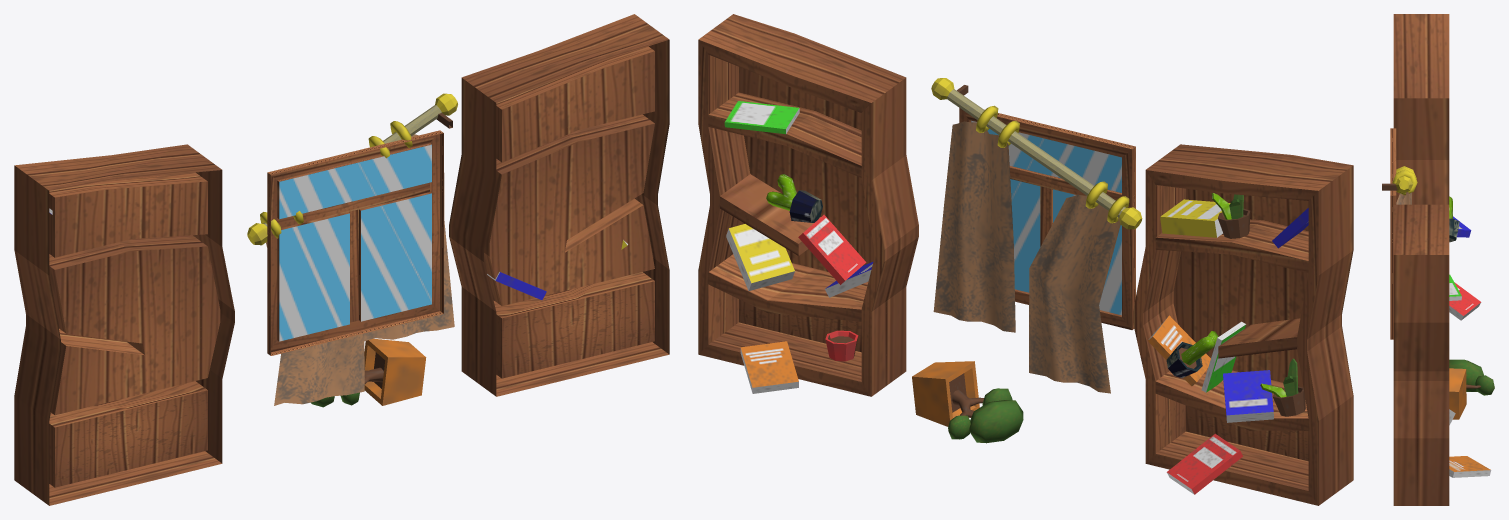
The model's file is Back1.fbx.
3 renders of one model, left to right at view 1: azimuth 30°, elevation 25°; view 2: azimuth 150°, elevation 25°; view 3: azimuth 270°, elevation 25°, orthographic. The views are drawn at different scales.
Parts seen in each view (by area): view 1: Back1; view 2: Back1; view 3: Back1.
Part boxes in pixels (x1,y1,x2,y2): Back1: (14, 14, 669, 505); Back1: (698, 14, 1353, 505); Back1: (1382, 14, 1494, 505).
Size of the model in its own units: 6705 by 1327 by 3318.
